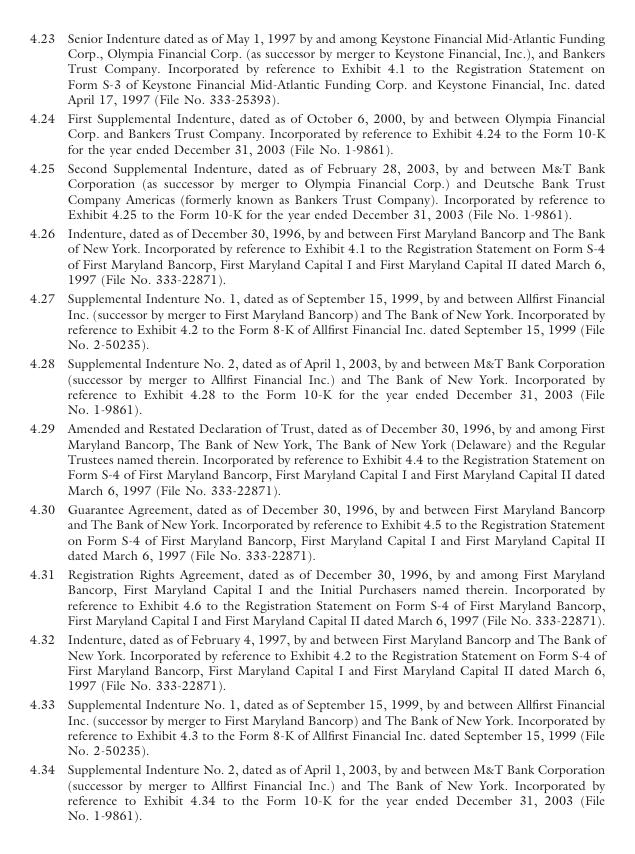table: (29, 29, 604, 822)
table column: (60, 29, 604, 822), (29, 29, 60, 822)
table row: (29, 418, 604, 498), (29, 29, 604, 108), (29, 222, 604, 288), (29, 563, 604, 629), (29, 157, 604, 222), (29, 288, 604, 353), (29, 353, 604, 418), (29, 498, 604, 563), (29, 629, 604, 694), (29, 694, 604, 759), (29, 759, 604, 822), (29, 108, 604, 157)
